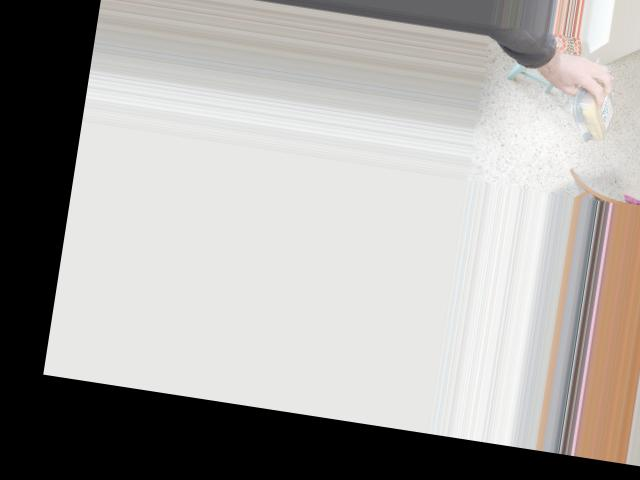cheese: (565, 65, 623, 147)
